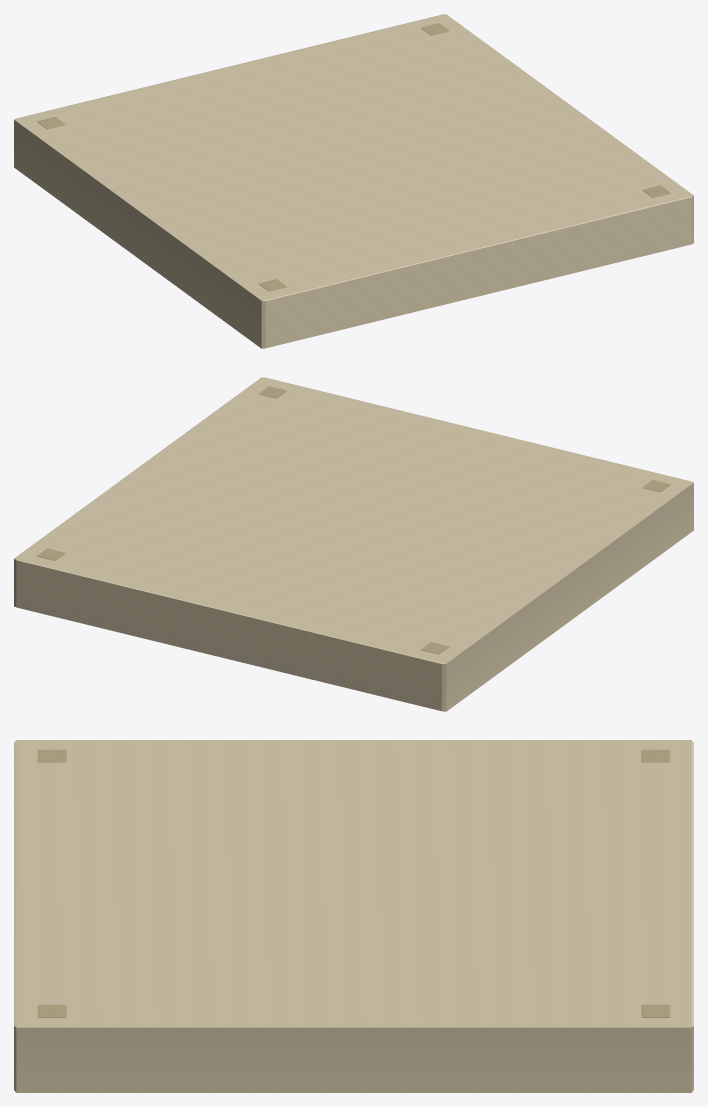
Rendered from SM_WC_TileAlt.fbx.
The picture shows the model from 3 angles, top to bottom: view 1: azimuth 30°, elevation 25°; view 2: azimuth 150°, elevation 25°; view 3: azimuth 270°, elevation 25°; orthographic projection. The views are drawn at different scales.
Visible parts, largest first — view 1: SM_WC_TileAlt; view 2: SM_WC_TileAlt; view 3: SM_WC_TileAlt.
Part boxes in pixels (box(x1,y1,x2,y2)): SM_WC_TileAlt: box(14, 14, 693, 348); SM_WC_TileAlt: box(14, 377, 693, 711); SM_WC_TileAlt: box(14, 740, 693, 1092).
Size of the model in its own units: 1.98 by 1.98 by 0.2115.
